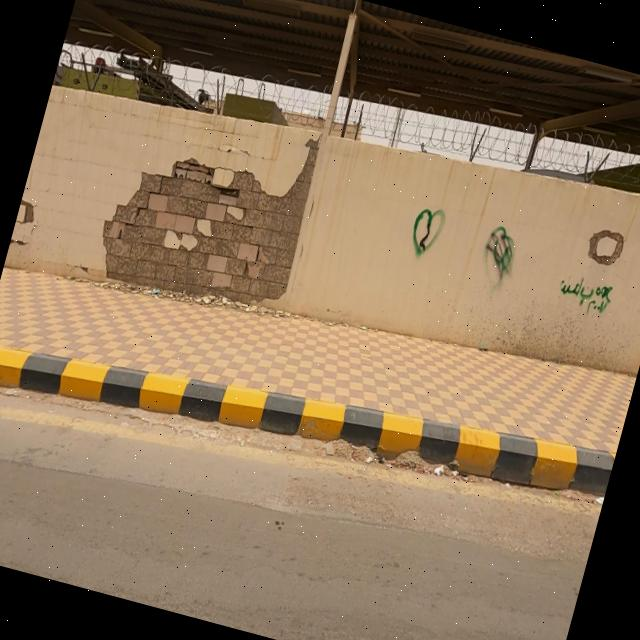Graffiti: (554, 270, 617, 324), (478, 225, 521, 291), (406, 203, 450, 264)
